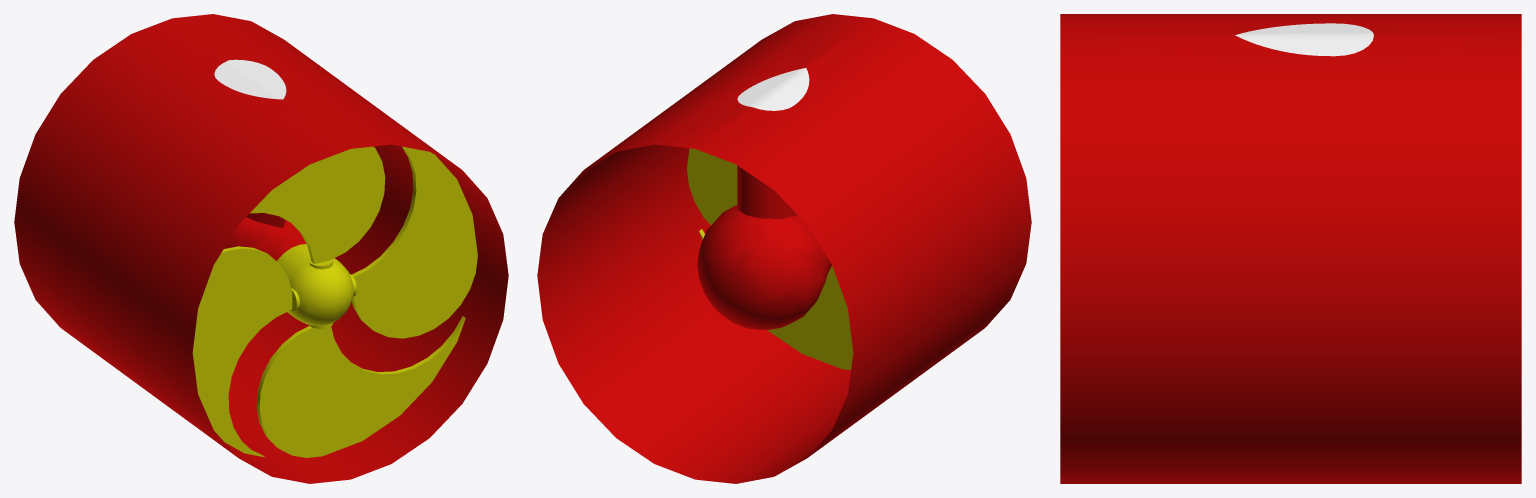
File: thruster.dae
3 views of the same model, side by side, from view 1: azimuth 30°, elevation 25°; view 2: azimuth 150°, elevation 25°; view 3: azimuth 270°, elevation 25° (orthographic). The views are drawn at different scales.
Parts seen in each view (by area): view 1: group_0 (×3), group_3 (×4), group_1; view 2: group_0 (×4), group_3 (×2); view 3: group_0 (×2).
Boxes of the visible parts, x1,y1,x2,y2 form: group_0 (×3): (14,14,508,483); group_3 (×4): (192,146,477,457); group_1: (277,244,353,325); group_0 (×4): (537,14,1031,483); group_3 (×2): (687,148,853,370); group_0 (×2): (1060,14,1521,483).
Size of the model in its own units: 120 by 117 by 120.
